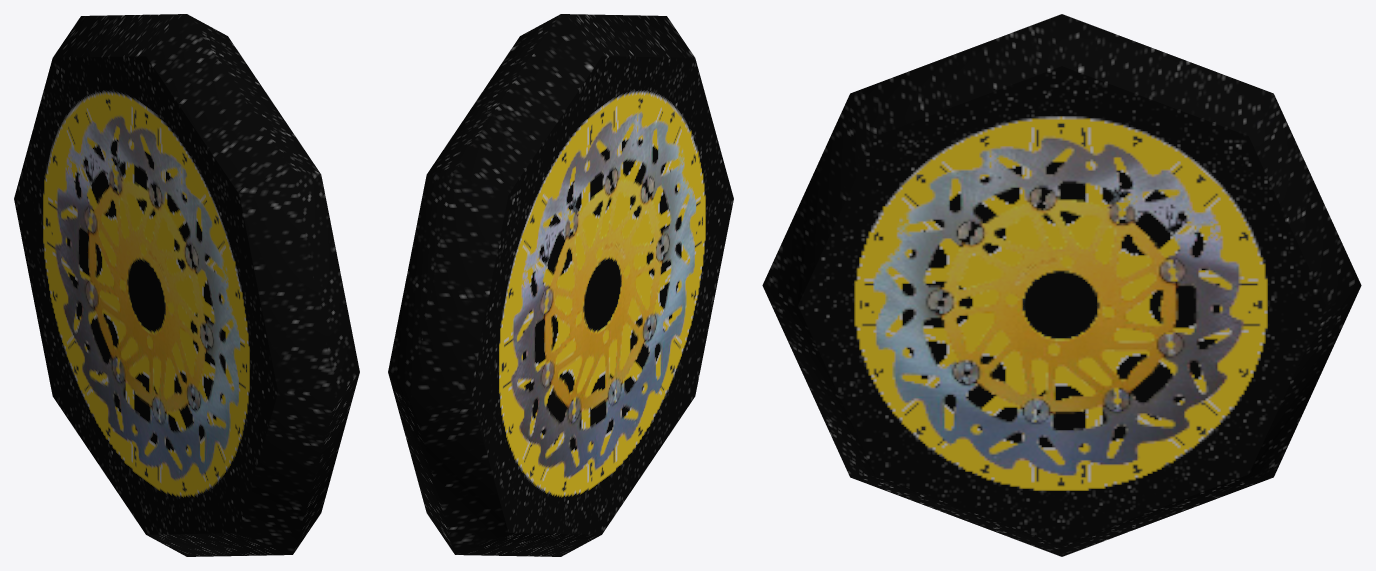
File: bikeFrontWheel_lowpoly.obj
The picture shows the model from 3 angles, left to right: view 1: azimuth 30°, elevation 25°; view 2: azimuth 150°, elevation 25°; view 3: azimuth 270°, elevation 25°; orthographic projection.
Parts seen in each view (by area): view 1: FrontWheel_Cylinder.001; view 2: FrontWheel_Cylinder.001; view 3: FrontWheel_Cylinder.001.
Boxes of the visible parts, x1,y1,x2,y2 form: FrontWheel_Cylinder.001: (14, 14, 359, 556); FrontWheel_Cylinder.001: (388, 14, 733, 556); FrontWheel_Cylinder.001: (762, 14, 1361, 556).
Bounding box in the file's own units: 0.3 × 1.9 × 1.9.
Materials: 1 (1 with a texture image).
